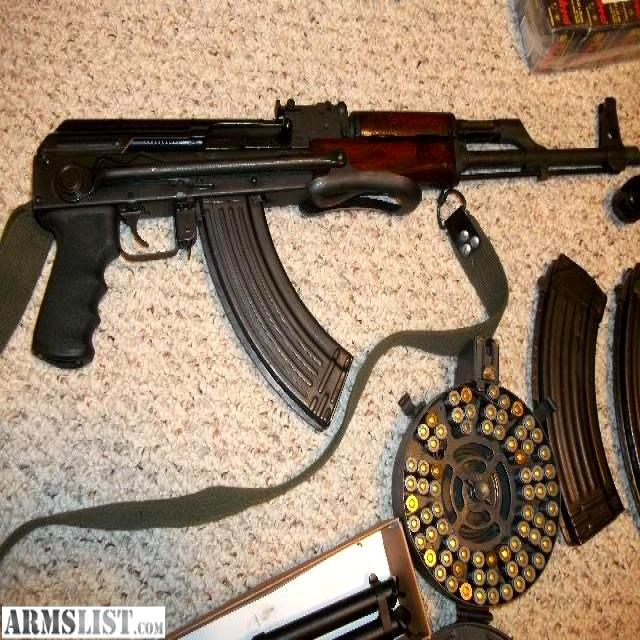ak: (35, 106, 633, 427)
